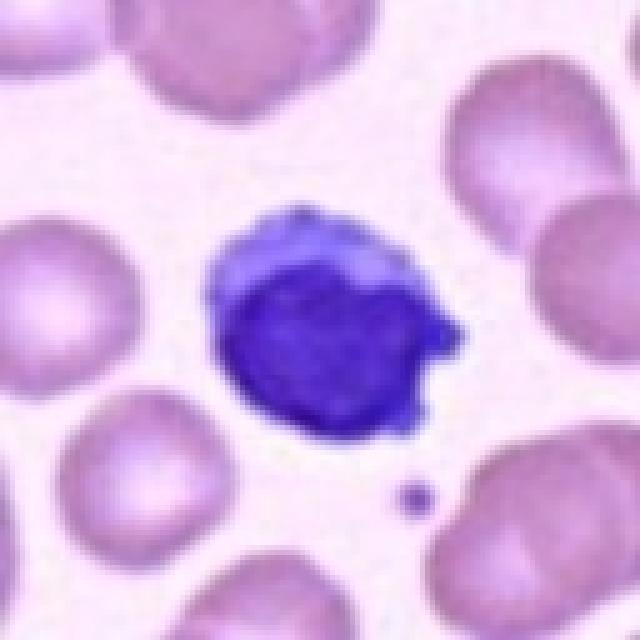lympho: (199, 195, 470, 446)
